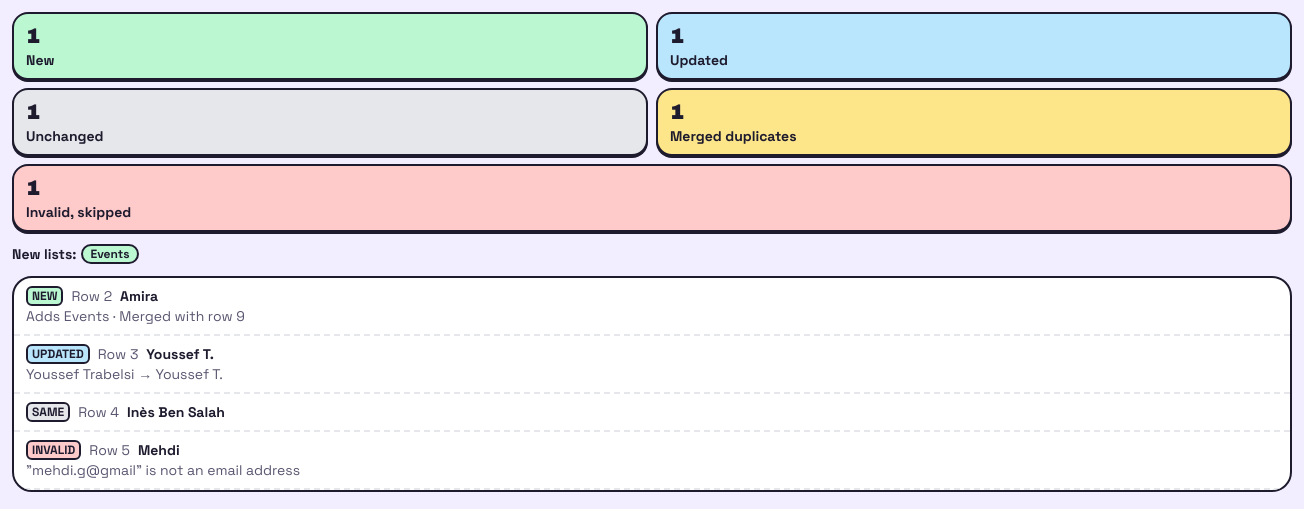
PreviewStep › summarizes the dry run and filters rows by tile
Expected: the button "1 New" is shown, [12, 12, 648, 80]
Expected: the text "New lists:" is shown, [12, 244, 76, 264]
Click the button "1 Invalid, skipped": point(79, 212) [12, 164, 1292, 232]
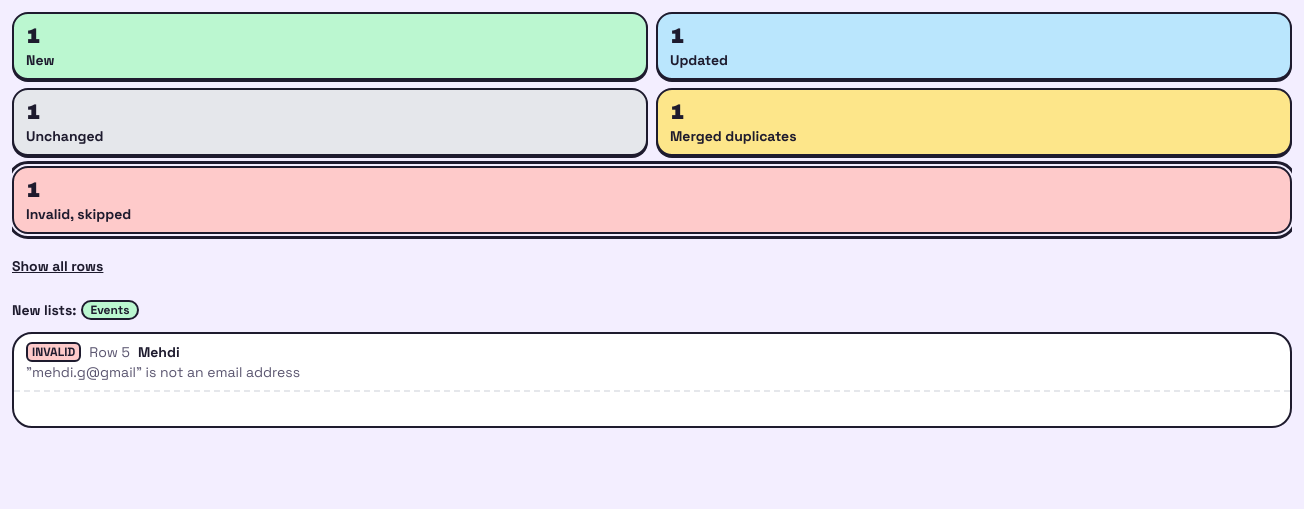
Now the number of list items is 1, box [14, 334, 1290, 392]
Click the button "Show all rows": point(58, 266) [12, 244, 103, 288]
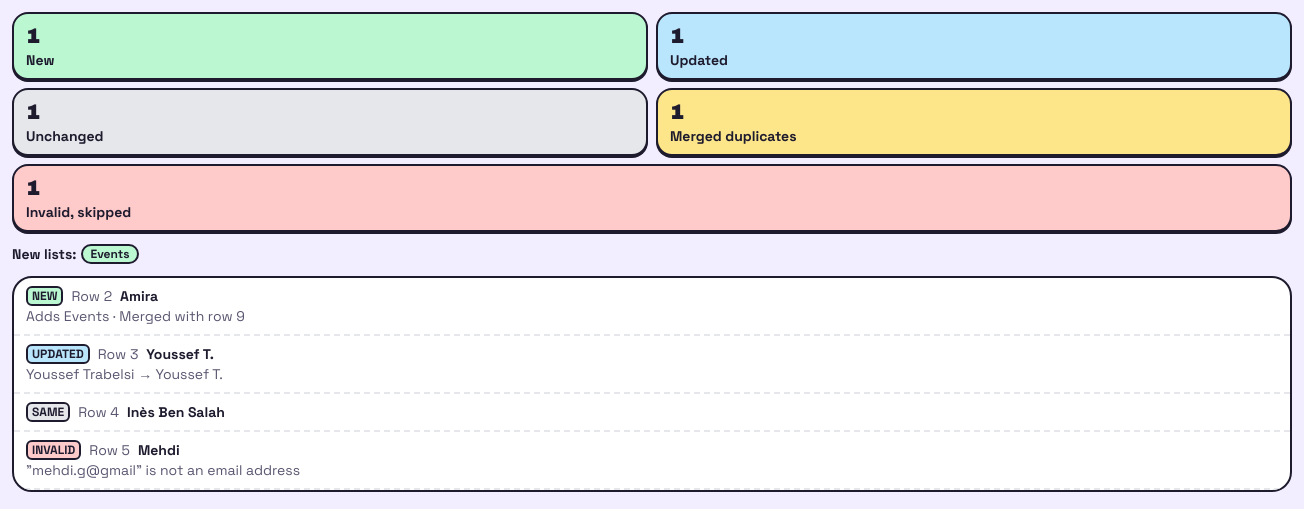
Now the number of list items is 4, box [14, 278, 1290, 336]; [14, 336, 1290, 394]; [14, 394, 1290, 432]; [14, 432, 1290, 490]
